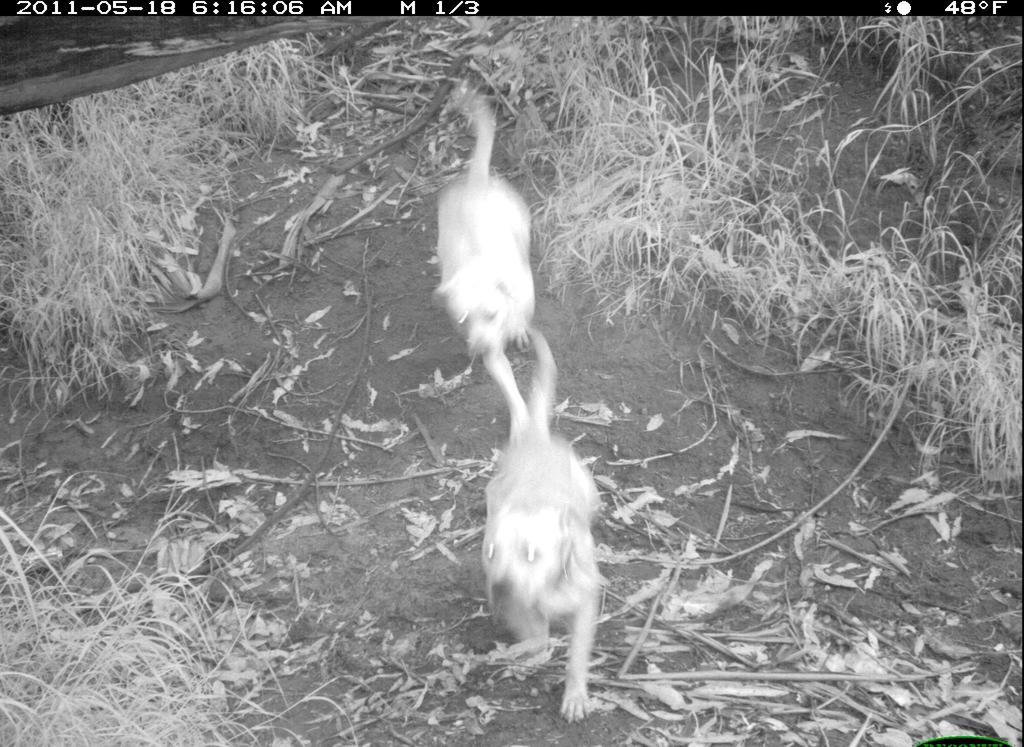dog: (474, 335, 617, 728), (432, 75, 551, 372)
